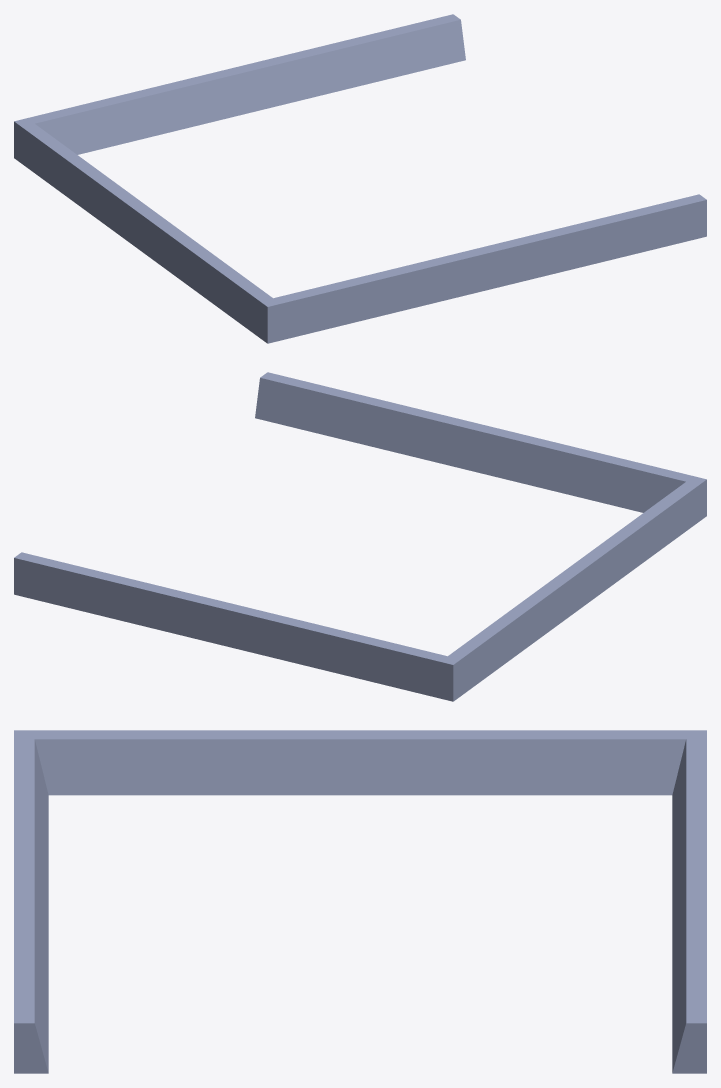
Rendered from road-end-barrier.glb.
3 views of the same model, one above another, from view 1: azimuth 30°, elevation 25°; view 2: azimuth 150°, elevation 25°; view 3: azimuth 270°, elevation 25° (orthographic). The views are drawn at different scales.
Visible parts, largest first — view 1: road-end-barrier; view 2: road-end-barrier; view 3: road-end-barrier.
Part boxes in pixels (x1,y1,x2,y2): road-end-barrier: [14, 14, 706, 343]; road-end-barrier: [14, 372, 706, 701]; road-end-barrier: [14, 730, 706, 1073].
Bounding box in the file's own units: 1 × 0.08 × 1.
1 material, 1 textured.
